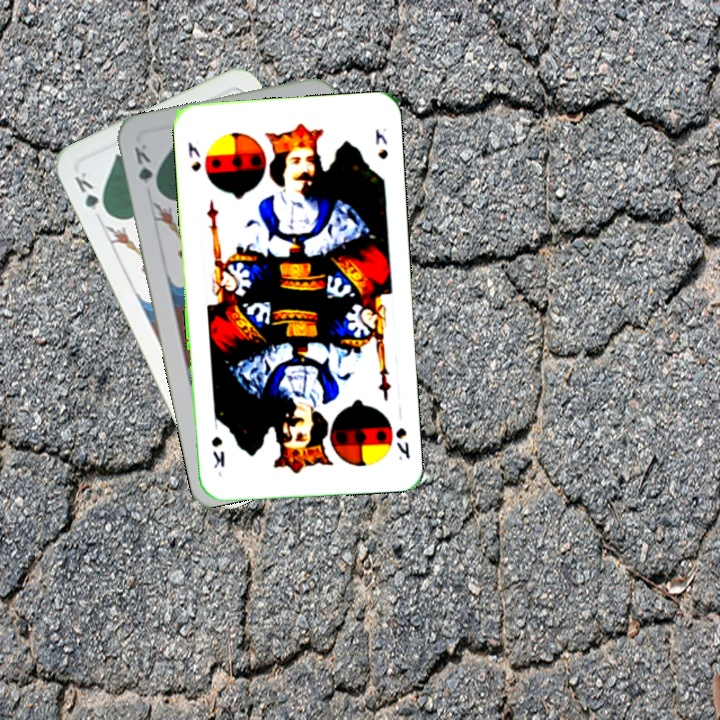GK: (70, 168, 111, 219), (130, 140, 161, 195)
SK: (392, 424, 412, 463), (184, 138, 203, 174)
